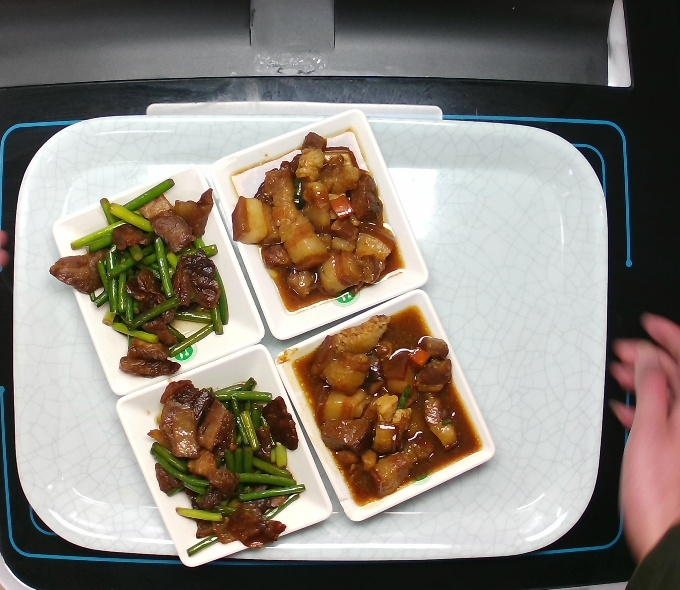wcq-HongShaoRou: (224, 126, 398, 308), (307, 306, 466, 501)
wcq-SuanMiaoChaoRou: (42, 174, 233, 382), (147, 367, 311, 562)
